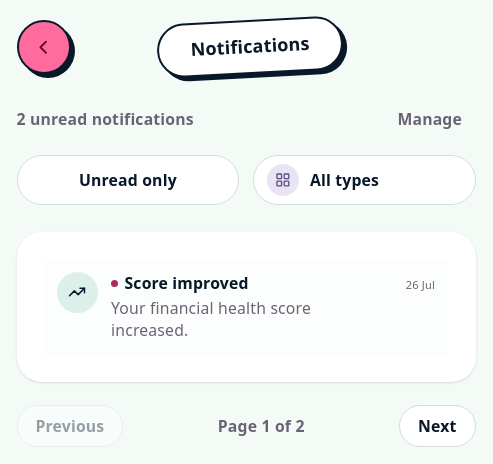
Scenario: NotificationsPage › moves between notification pages
Check: the text "Score improved" is shown, box x1=124 y1=272 x2=248 y2=294
Check: the text "Page 1 of 2" is shown, box x1=218 y1=415 x2=305 y2=437
Click the button "Next".
click(437, 426)  # box x1=399 y1=405 x2=476 y2=447
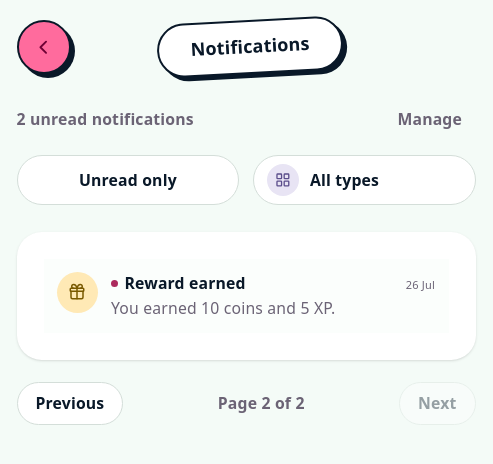
Check: the text "Reward earned" is shown, box x1=124 y1=272 x2=246 y2=294
Check: the text "Page 2 of 2" is shown, box x1=218 y1=392 x2=305 y2=415
Check: the button "Previous" is enabled, box x1=16 y1=382 x2=123 y2=425
